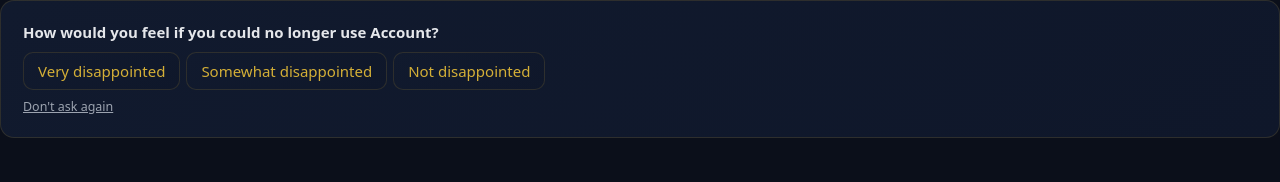
Test: DisappointmentQuestion › says so when saving fails, and keeps the question
Click the button "Not disappointed". click: (469, 71)
box: top-left (393, 52), bottom-right (545, 90)
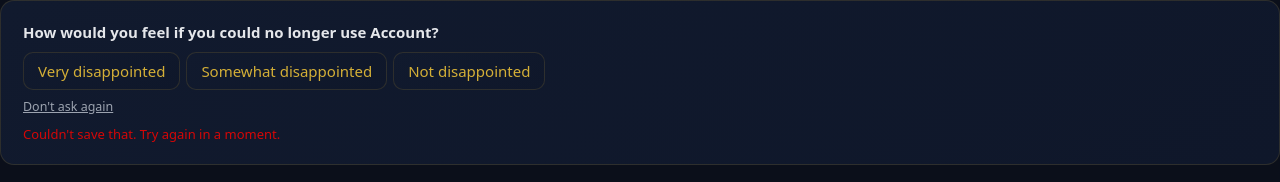
Expected: the message shows "Couldn't save that", top-left (23, 125), bottom-right (280, 143)
